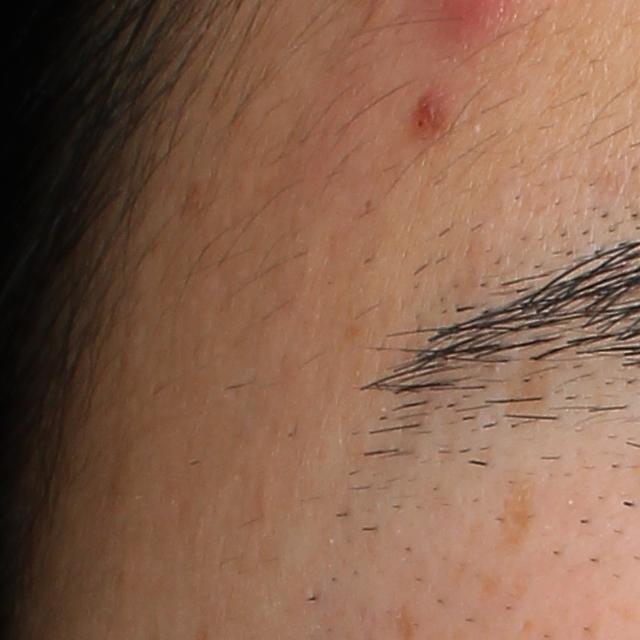melasma: (393, 610, 414, 640)
